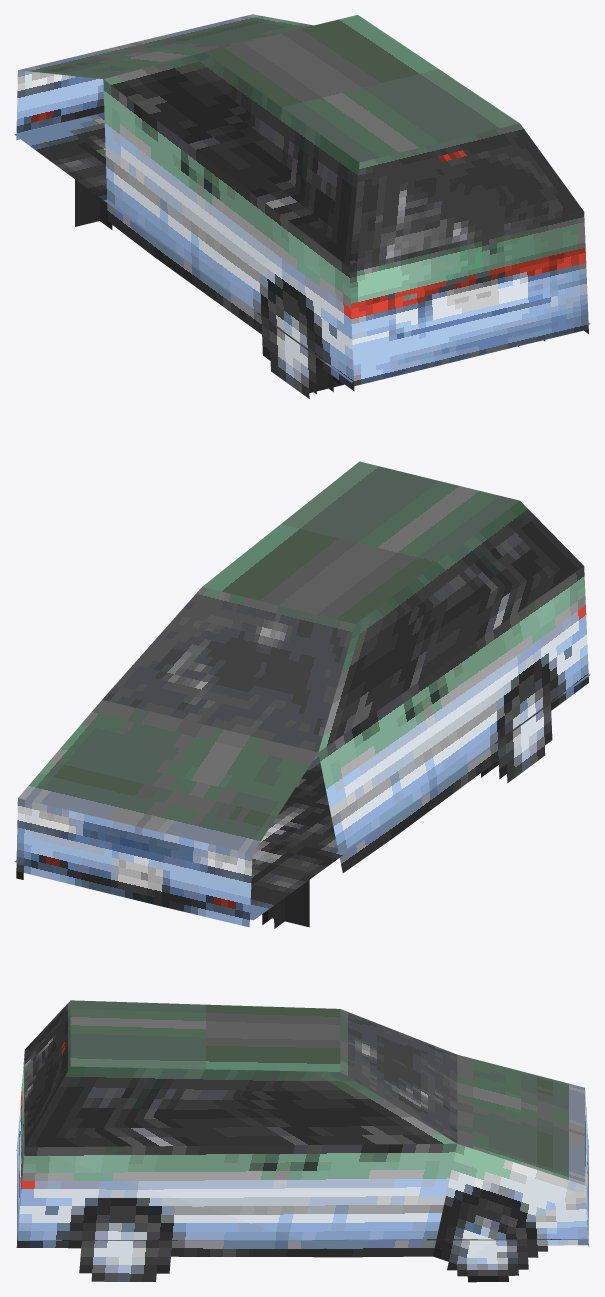
Rendered from car-axxess-plt1.glb.
3 renders of one model, top to bottom at view 1: azimuth 30°, elevation 25°; view 2: azimuth 150°, elevation 25°; view 3: azimuth 270°, elevation 25°, orthographic. The views are drawn at different scales.
Visible parts, largest first — view 1: car-axxess-plt1; view 2: car-axxess-plt1; view 3: car-axxess-plt1.
Part boxes in pixels (x1=…): car-axxess-plt1: x1=14, y1=14, x2=590, y2=398; car-axxess-plt1: x1=14, y1=461, x2=590, y2=928; car-axxess-plt1: x1=16, y1=1000, x2=588, y2=1282.
Size of the model in its own units: 1.52 by 1.43 by 3.74.
Materials: 13 (13 with a texture image).
